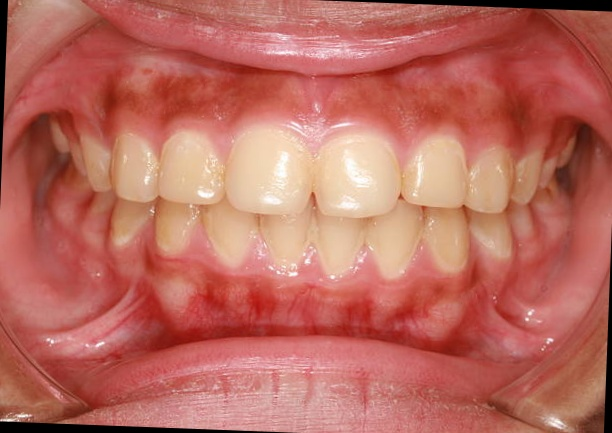Gingivitis: (144, 264, 503, 354), (399, 77, 530, 141), (128, 68, 271, 123)
